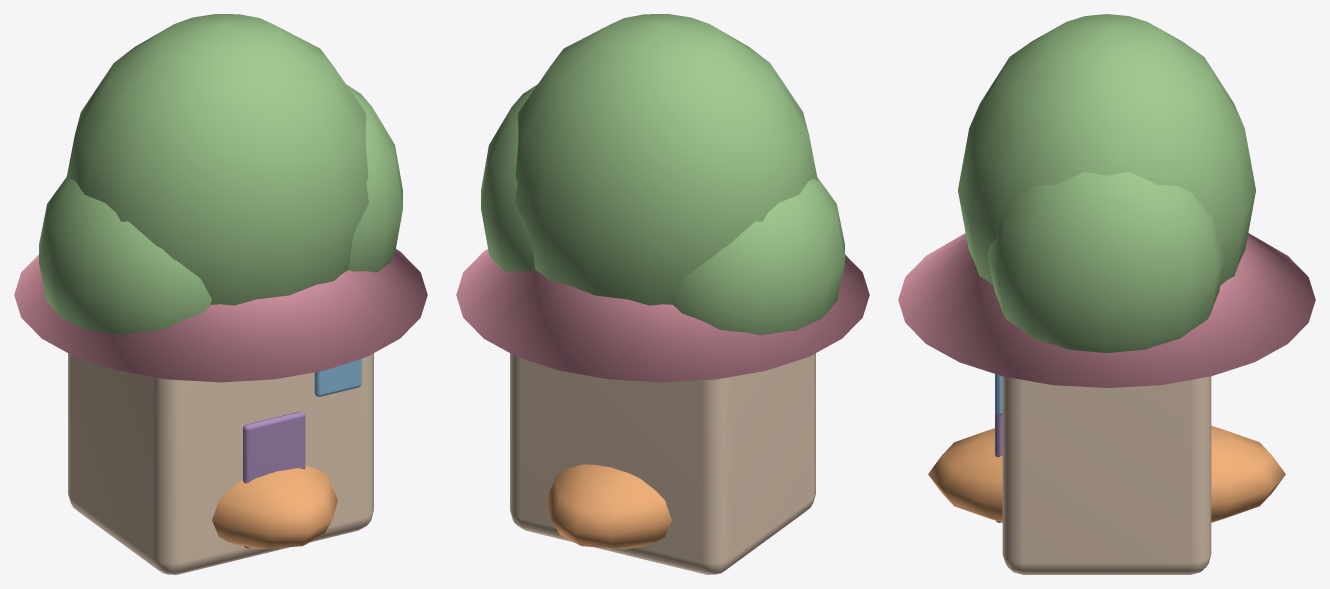
The model's file is toybox.glb.
3 renders of one model, left to right at view 1: azimuth 30°, elevation 25°; view 2: azimuth 150°, elevation 25°; view 3: azimuth 270°, elevation 25°, orthographic.
Parts seen in each view (by area): view 1: tree, house, boat; view 2: tree, house, boat; view 3: tree, house, boat.
Part boxes in pixels (x1=…): tree: x1=39, y1=14, x2=402, y2=371; house: x1=14, y1=249, x2=427, y2=574; boat: x1=212, y1=465, x2=337, y2=549; tree: x1=481, y1=14, x2=844, y2=371; house: x1=456, y1=249, x2=869, y2=574; boat: x1=546, y1=464, x2=671, y2=549; tree: x1=958, y1=14, x2=1255, y2=352; house: x1=898, y1=233, x2=1315, y2=574; boat: x1=928, y1=425, x2=1285, y2=522.
Bounding box in the file's own units: 1.4 × 1.99 × 1.4.
